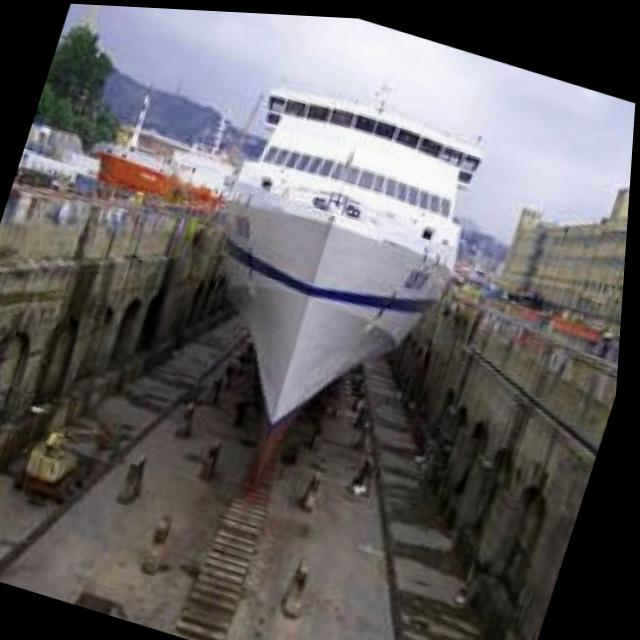ship2: (217, 89, 485, 429)
